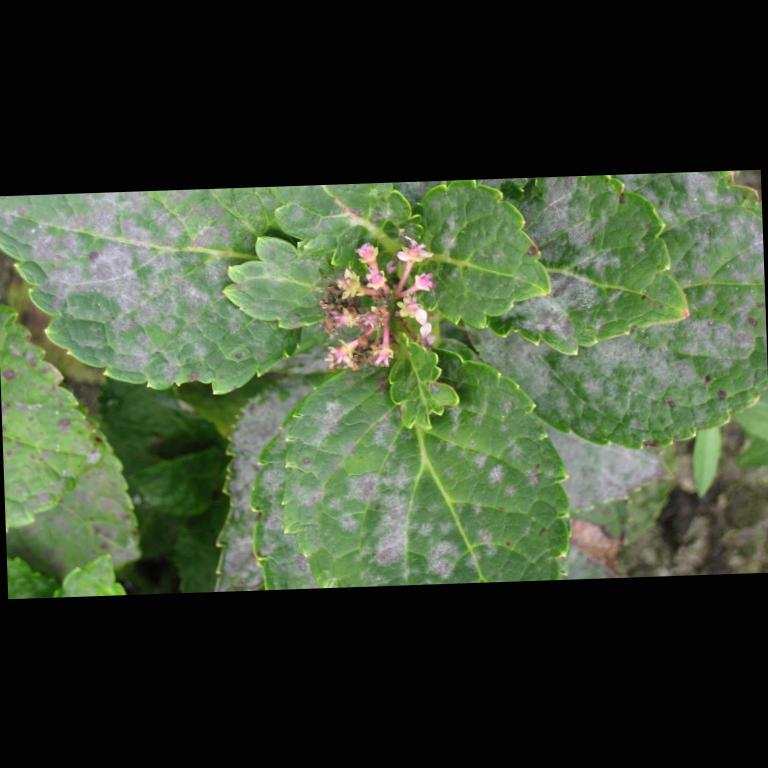powdery-mildew: (41, 196, 210, 330)
